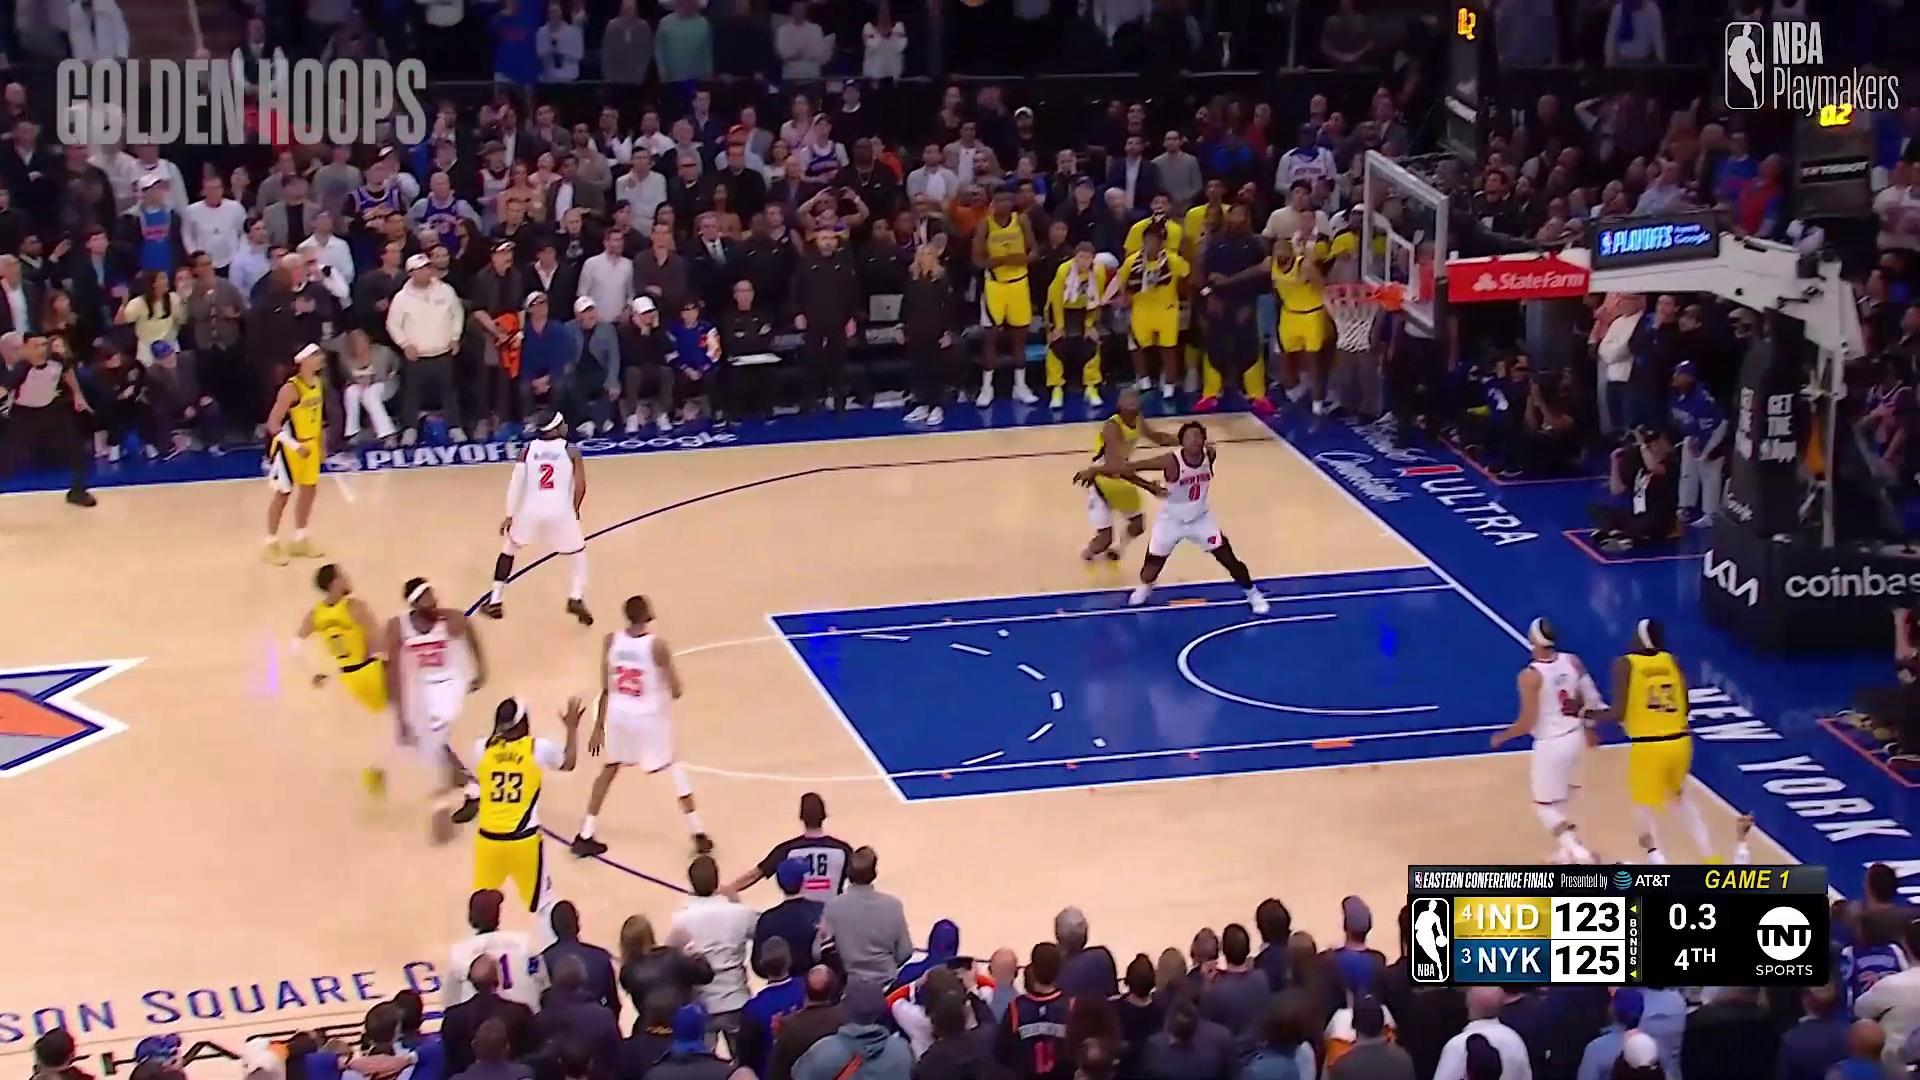hoop: (1323, 274, 1381, 353)
